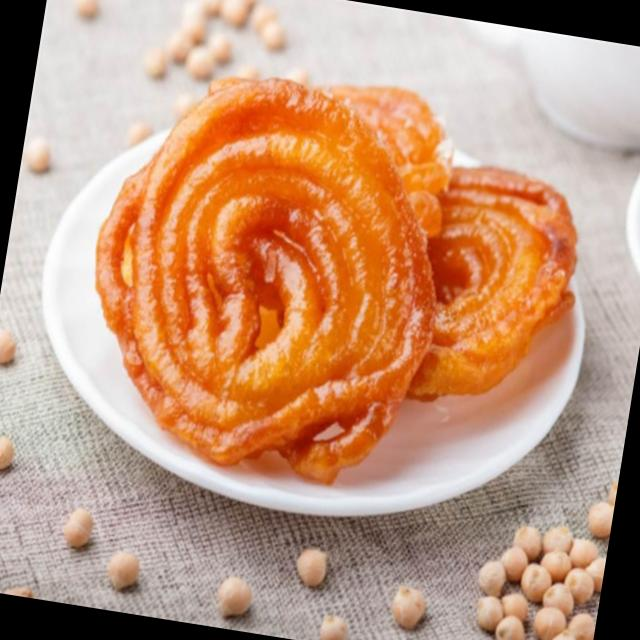jalebi: (61, 57, 606, 515)
